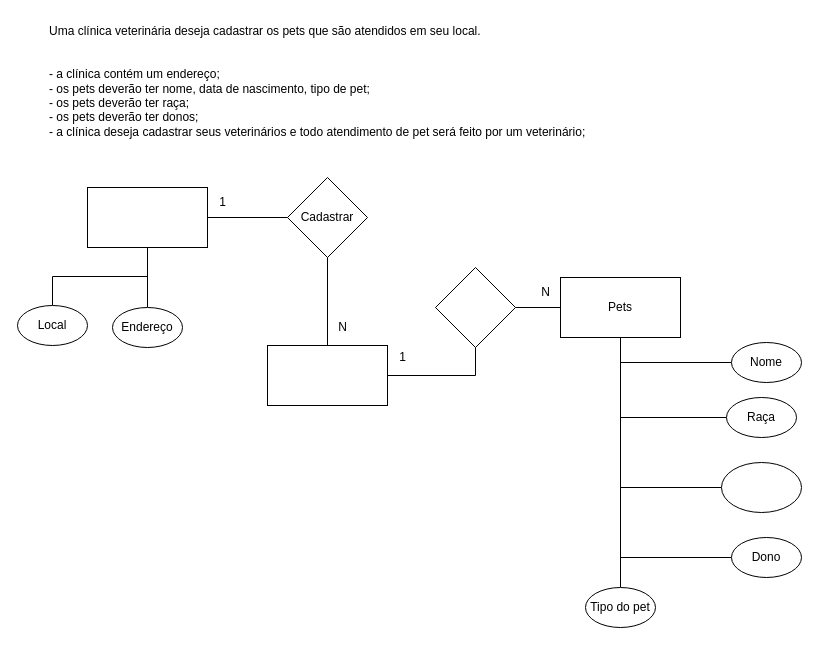
The diagram is 819 pixels wide and 645 high, and some of its shapes have lost their labels. The box of each missing label's shape, as (x1, y1, x2, y2) in pixels:
Atender: (434, 266, 516, 348)
Clínica: (86, 186, 208, 248)
Data de nascimento: (720, 462, 802, 512)
Veterinário: (266, 344, 388, 406)
